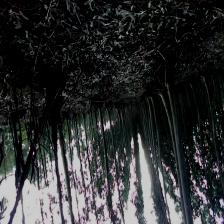trunk: (160, 80, 192, 212), (57, 122, 73, 207), (98, 106, 111, 195)
